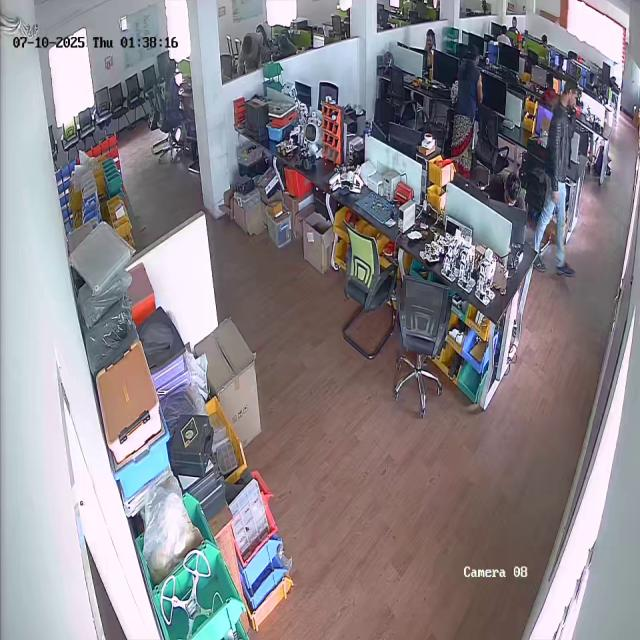person: (531, 78, 579, 280), (442, 43, 485, 175)
